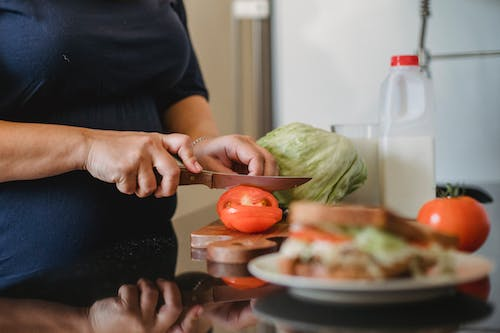knife: (153, 165, 320, 191)
